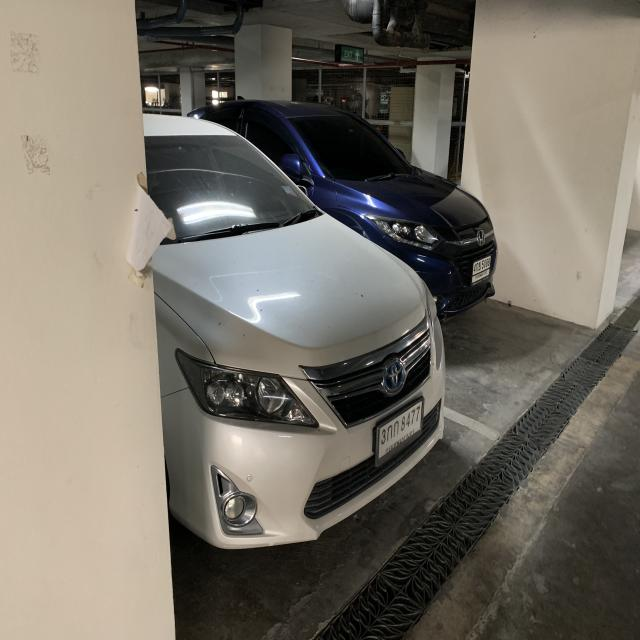license_plate: (374, 392, 426, 471), (471, 251, 493, 286)
